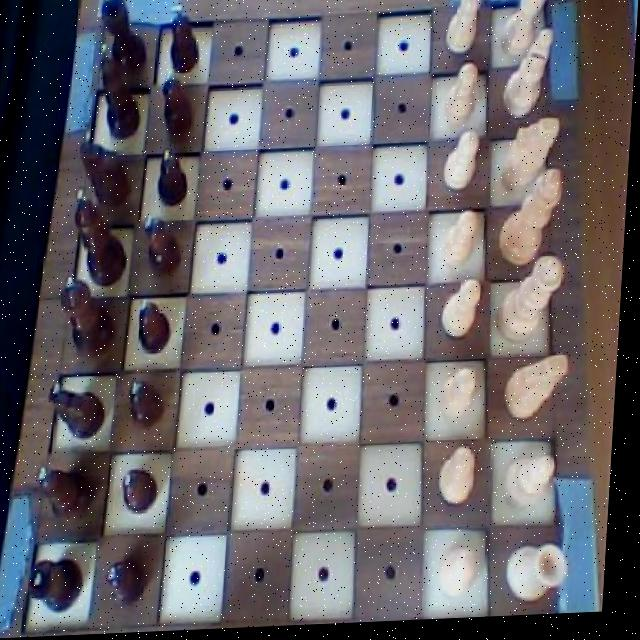bishop: (94, 41, 147, 147), (39, 462, 100, 535)
black-bishop: (68, 187, 134, 291)
black-king: (76, 130, 138, 209), (49, 382, 116, 442)
black-knight: (143, 213, 188, 286), (110, 551, 160, 615), (160, 74, 199, 147), (167, 2, 204, 77), (124, 461, 166, 526), (130, 378, 171, 438), (137, 298, 176, 361), (155, 149, 193, 213)
black-pawn: (59, 272, 129, 363)
black-queen: (94, 0, 154, 78), (31, 551, 94, 617)
black-rook: (500, 30, 558, 124), (505, 450, 566, 521)
white-bishop: (494, 169, 570, 275)
white-king: (497, 117, 566, 198), (505, 353, 575, 430)
white-knight: (441, 133, 487, 202), (441, 281, 488, 347), (440, 449, 485, 516), (439, 368, 487, 430), (440, 210, 485, 276), (439, 0, 486, 62), (439, 547, 489, 605), (441, 65, 482, 135)
white-pawn: (499, 258, 572, 349)
white-queen: (508, 539, 578, 613), (499, 0, 559, 64)
